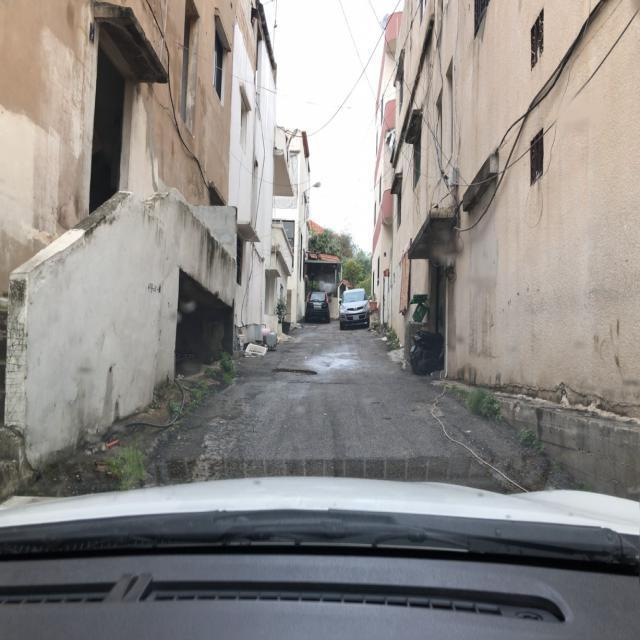pothole: (270, 368, 319, 379)
